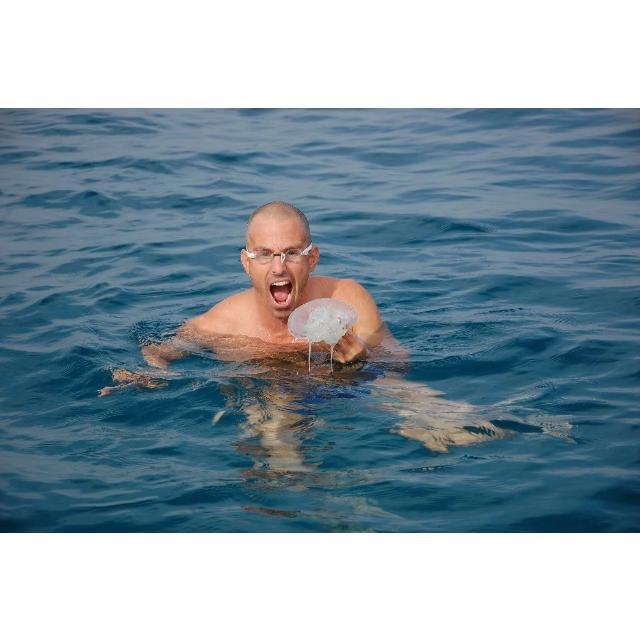human: (123, 198, 541, 452)
